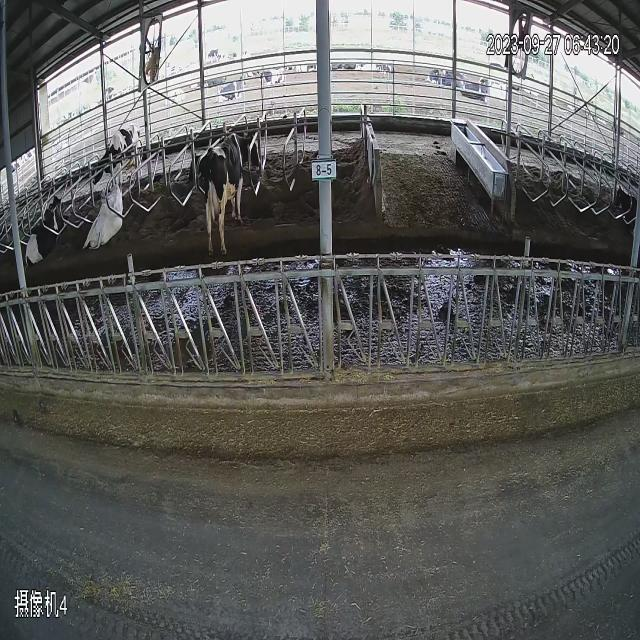lying down: (20, 180, 72, 272), (84, 170, 136, 256), (604, 161, 640, 249)
standing: (193, 91, 276, 254)
